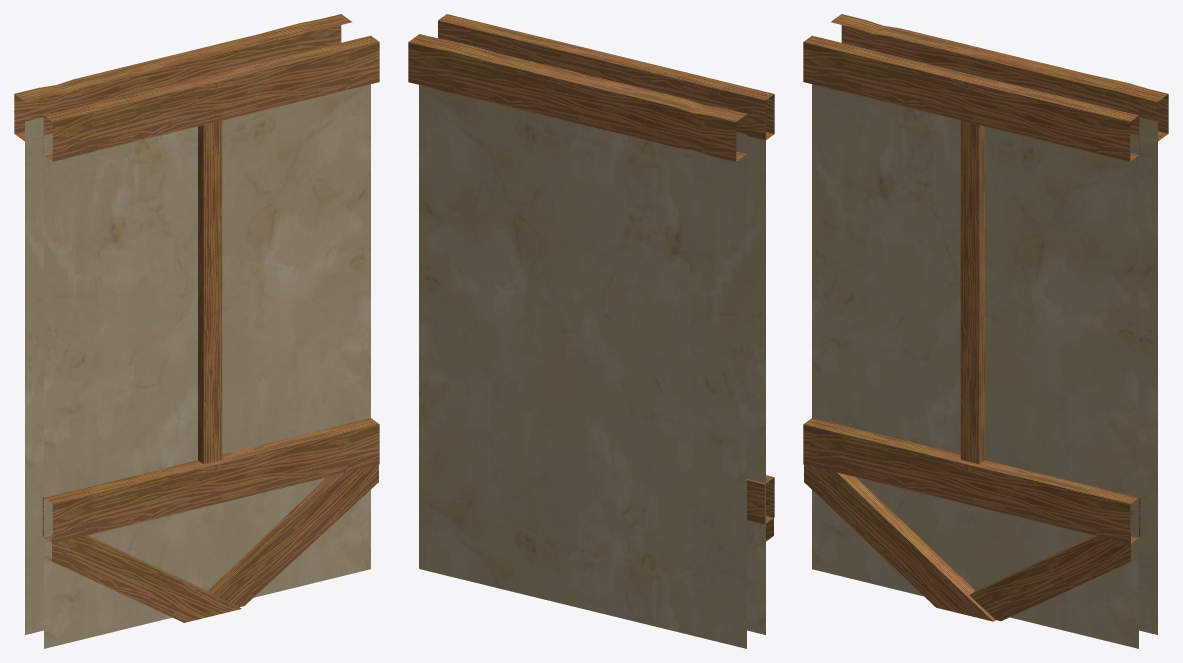
The model's file is Wall_Plaster_Straight.gltf.
The picture shows the model from 3 angles, left to right: view 1: azimuth 30°, elevation 25°; view 2: azimuth 150°, elevation 25°; view 3: azimuth 330°, elevation 25°; orthographic projection.
Visible parts, largest first — view 1: Wall_Plaster_Straight; view 2: Wall_Plaster_Straight; view 3: Wall_Plaster_Straight.
Part boxes in pixels (box(x1,y1,x2,y2)): Wall_Plaster_Straight: box(14, 14, 379, 648); Wall_Plaster_Straight: box(408, 14, 774, 648); Wall_Plaster_Straight: box(803, 14, 1168, 648).
Bounding box in the file's own units: 2 × 3.12 × 0.4065.
Materials: 2 (2 with a texture image).
